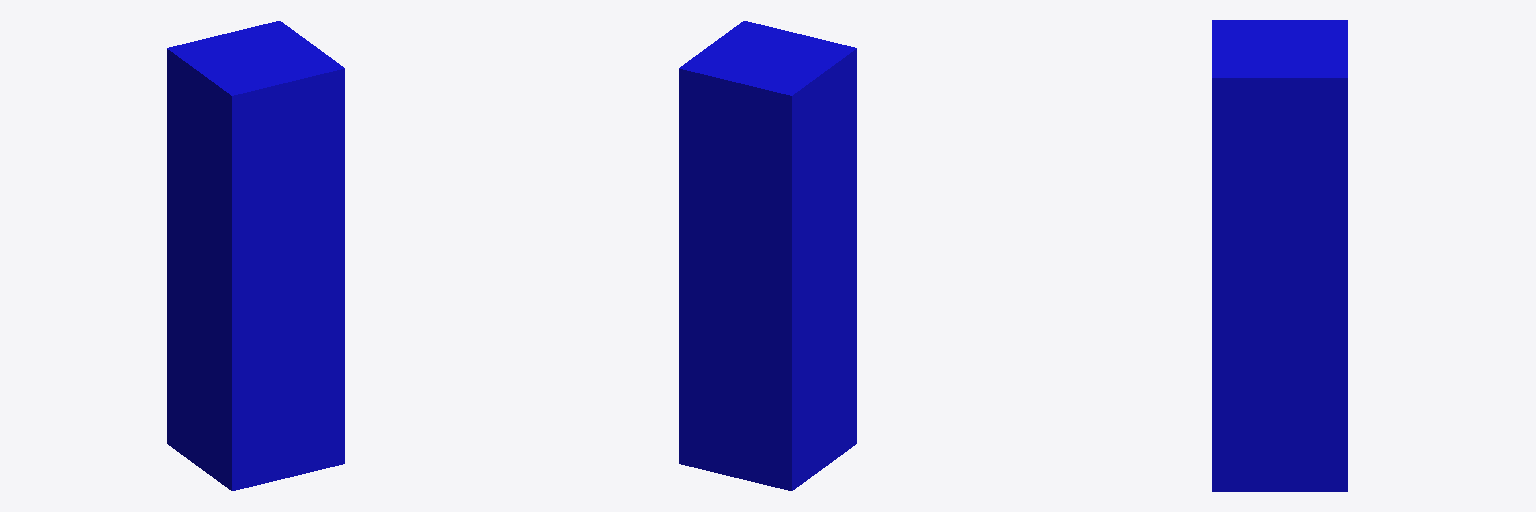
URDF robot description (simple_cuboid):
<?xml version="1.0"?>
<robot name="simple_cuboid">
  <link name="base_link">
    <inertial>
      <origin xyz="0 0 0" rpy="0 0 0" />
      <mass value="0.1" />
      <inertia ixx="0.004166" ixy="0" ixz="0" iyy="0.004166" iyz="0"
          izz="0.020833" />
    </inertial>
    <visual>
      <origin xyz="0 0 0" rpy="0 0 0" />git
      <geometry>
        <box size="0.06 0.06 0.2" />
      </geometry>
      <material name="dark blue">
        <color rgba="0.1 0.1 0.9 1" />
      </material>
    </visual>
    <collision>
      <geometry>
        <box size="0.06 0.06 0.2" />
      </geometry>
    </collision>
   </link>
</robot>

--- Facts derived from the render (not from the file) ---
3 views of the same robot in one strip: view 1: azimuth 30°, elevation 25°; view 2: azimuth 150°, elevation 25°; view 3: azimuth 270°, elevation 25° (orthographic).
Robot: simple_cuboid — 1 links, 0 joints (none); root link base_link; default pose: every joint at zero.
Visible links, largest first — view 1: base_link; view 2: base_link; view 3: base_link.
Boxes of the visible links, x1,y1,x2,y2 form: base_link: (167, 21, 344, 490); base_link: (679, 21, 856, 490); base_link: (1212, 20, 1347, 491).
Bounding box of the posed robot: 0.06 × 0.06 × 0.2 m (x, y, z).
Geometry: primitives only (box / cylinder / sphere), no mesh files.